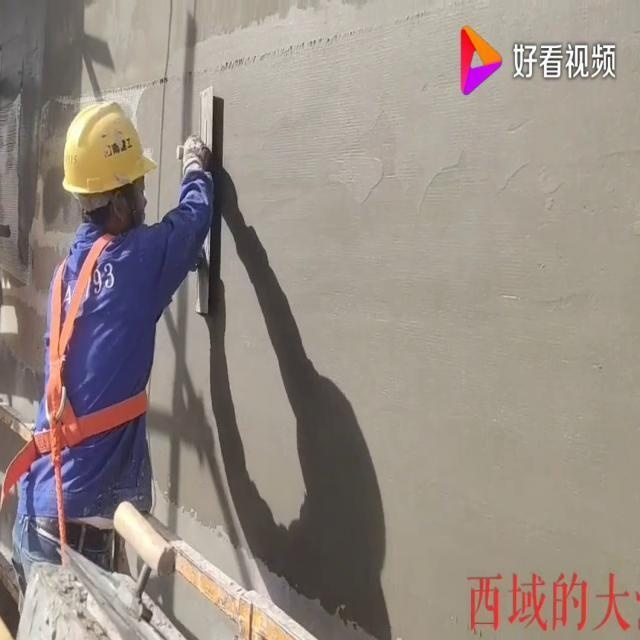Arnes_seguridad: (24, 225, 156, 484)
